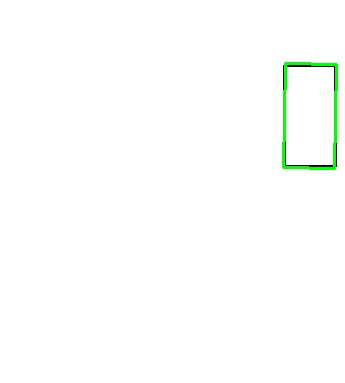line_segment: (282, 63, 338, 169)
